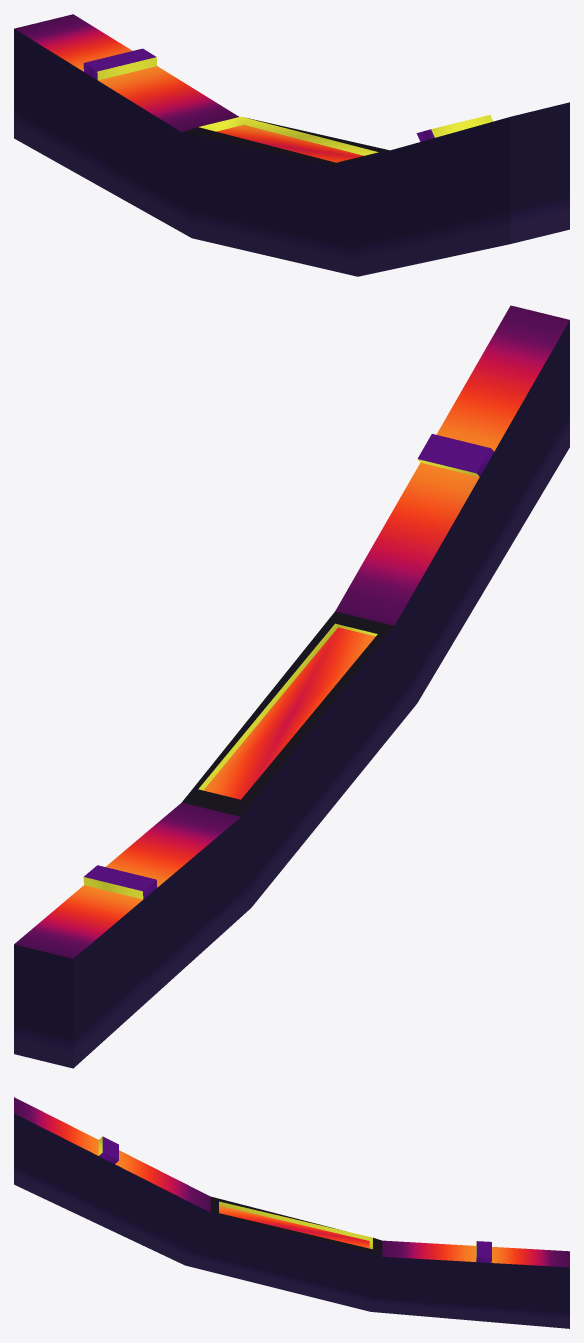
File: urban_ramp_border.gltf
The picture shows the model from 3 angles, top to bottom: view 1: azimuth 30°, elevation 25°; view 2: azimuth 150°, elevation 25°; view 3: azimuth 270°, elevation 25°; orthographic projection. The views are drawn at different scales.
Visible parts, largest first — view 1: urban_ramp_border_glb; view 2: urban_ramp_border_glb; view 3: urban_ramp_border_glb.
Part boxes in pixels (x1,y1,x2,y2): urban_ramp_border_glb: [14, 14, 569, 276]; urban_ramp_border_glb: [14, 305, 569, 1068]; urban_ramp_border_glb: [14, 1097, 569, 1328].
Size of what is drawn, in the model's own units: 0.2792 by 1.72 by 4.02.
1 material, 1 textured.
